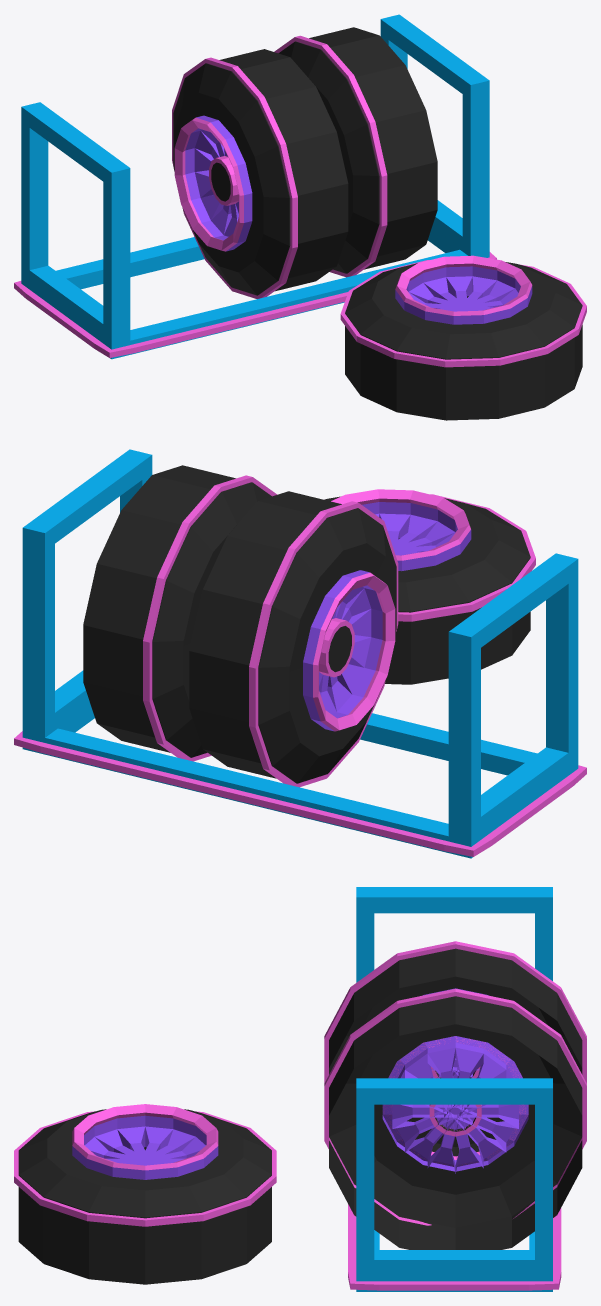
Rendered from car_2.fbx.
3 renders of one model, top to bottom at view 1: azimuth 30°, elevation 25°; view 2: azimuth 150°, elevation 25°; view 3: azimuth 270°, elevation 25°, orthographic. The views are drawn at different scales.
Parts seen in each view (by area): view 1: 2; view 2: 2; view 3: 2.
Part boxes in pixels (bbox=[...]): 2: bbox=[14, 14, 586, 420]; 2: bbox=[14, 449, 586, 858]; 2: bbox=[14, 887, 586, 1291].
Bounding box in the file's own units: 101 × 55.5 × 118.
1 material, 1 textured.
